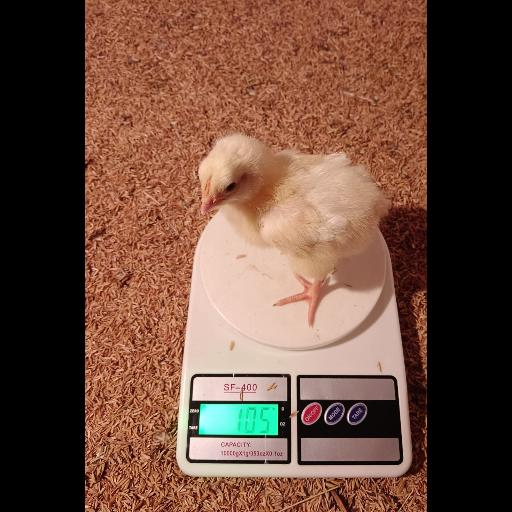chick: (198, 136, 393, 329)
